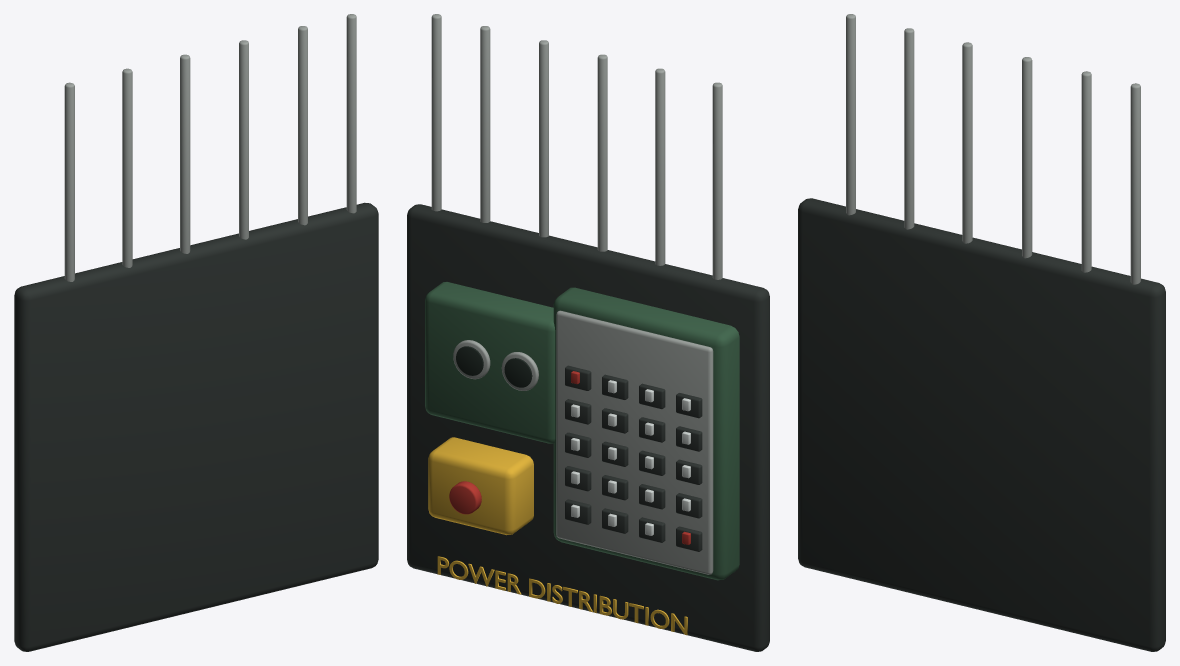
File: electrical_wall_v3.glb
3 views of the same model, side by side, from view 1: azimuth 30°, elevation 25°; view 2: azimuth 150°, elevation 25°; view 3: azimuth 330°, elevation 25° (orthographic).
Parts seen in each view (by area): view 1: Elec_Backboard, ElecConduit-0.1, ElecConduit-1.0, ElecConduit-0.55, ElecConduit1.2, ElecConduit0.36, ElecConduit0.82; view 2: Elec_Backboard, BreakerDoor, MeterBox, BreakerCabinet, EmergencyIsolator, ElecLabel, ElecConduit-1.0, ElecConduit-0.1, ElecConduit-0.55, ElecConduit1.2, ElecConduit0.82, ElecConduit0.36 (+5 smaller); view 3: Elec_Backboard, ElecConduit-0.55, ElecConduit-0.1, ElecConduit0.82, ElecConduit1.2, ElecConduit0.36, ElecConduit-1.0.
Boxes of the visible parts, x1,y1,x2,y2 form: Elec_Backboard: (14,202,378,651); ElecConduit-0.1: (180,54,190,253); ElecConduit-1.0: (64,82,74,281); ElecConduit-0.55: (122,68,132,267); ElecConduit1.2: (346,14,356,213); ElecConduit0.36: (239,40,248,239); ElecConduit0.82: (298,26,307,225); Elec_Backboard: (407,204,769,651); BreakerDoor: (556,310,713,574); MeterBox: (425,282,555,443); BreakerCabinet: (553,287,739,580); EmergencyIsolator: (428,437,533,535); ElecLabel: (437,556,687,635); ElecConduit-1.0: (712,82,722,279); ElecConduit-0.1: (597,54,607,251); ElecConduit-0.55: (655,68,665,265); ElecConduit1.2: (431,14,441,211); ElecConduit0.82: (480,26,490,222); ElecConduit0.36: (539,40,548,237); Elec_Backboard: (798,198,1165,651); ElecConduit-0.55: (904,28,914,229); ElecConduit-0.1: (962,42,972,243); ElecConduit0.82: (1081,71,1091,272); ElecConduit1.2: (1130,83,1140,284); ElecConduit0.36: (1022,57,1032,258); ElecConduit-1.0: (846,14,855,215).
Size of the model in its own units: 2.8 by 4.15 by 0.54.
